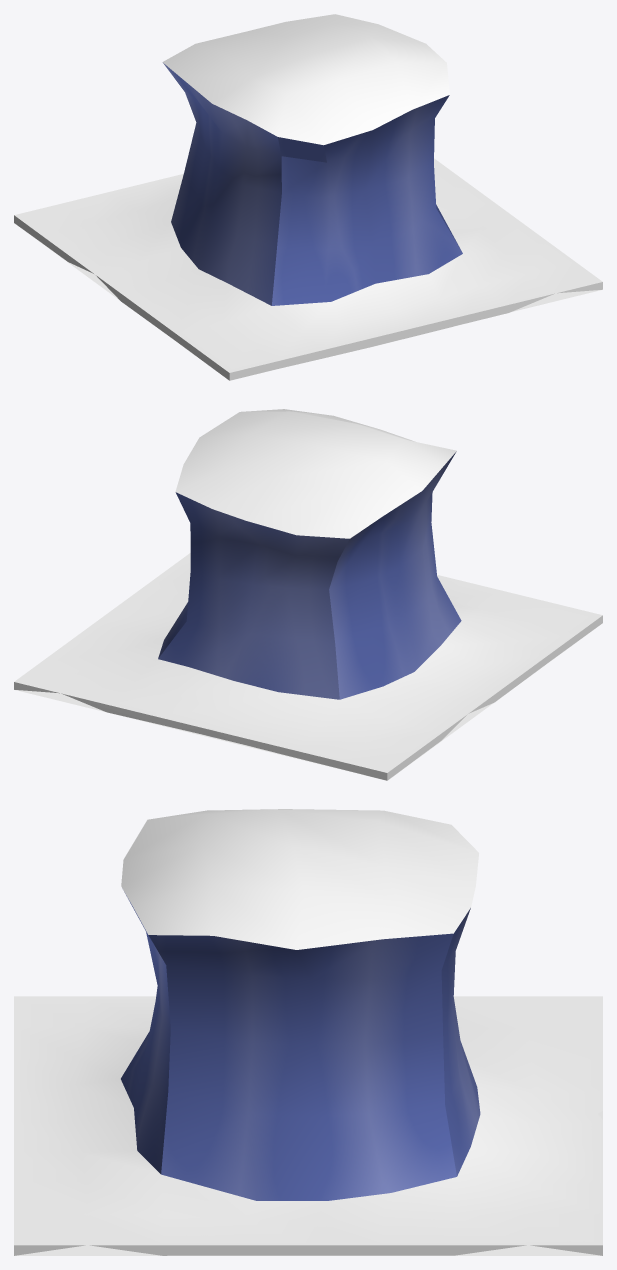
Rendered from wall_slim_single_1.glb.
3 renders of one model, top to bottom at view 1: azimuth 30°, elevation 25°; view 2: azimuth 150°, elevation 25°; view 3: azimuth 270°, elevation 25°, orthographic. The views are drawn at different scales.
Parts seen in each view (by area): view 1: wall_slim_single_1.001; view 2: wall_slim_single_1.001; view 3: wall_slim_single_1.001.
Boxes of the visible parts, bbox=[...] form: wall_slim_single_1.001: bbox=[14, 14, 602, 380]; wall_slim_single_1.001: bbox=[14, 409, 602, 780]; wall_slim_single_1.001: bbox=[14, 809, 602, 1255].
Size of the model in its own units: 2 by 1.06 by 2.
Materials: 1 (1 with a texture image).
